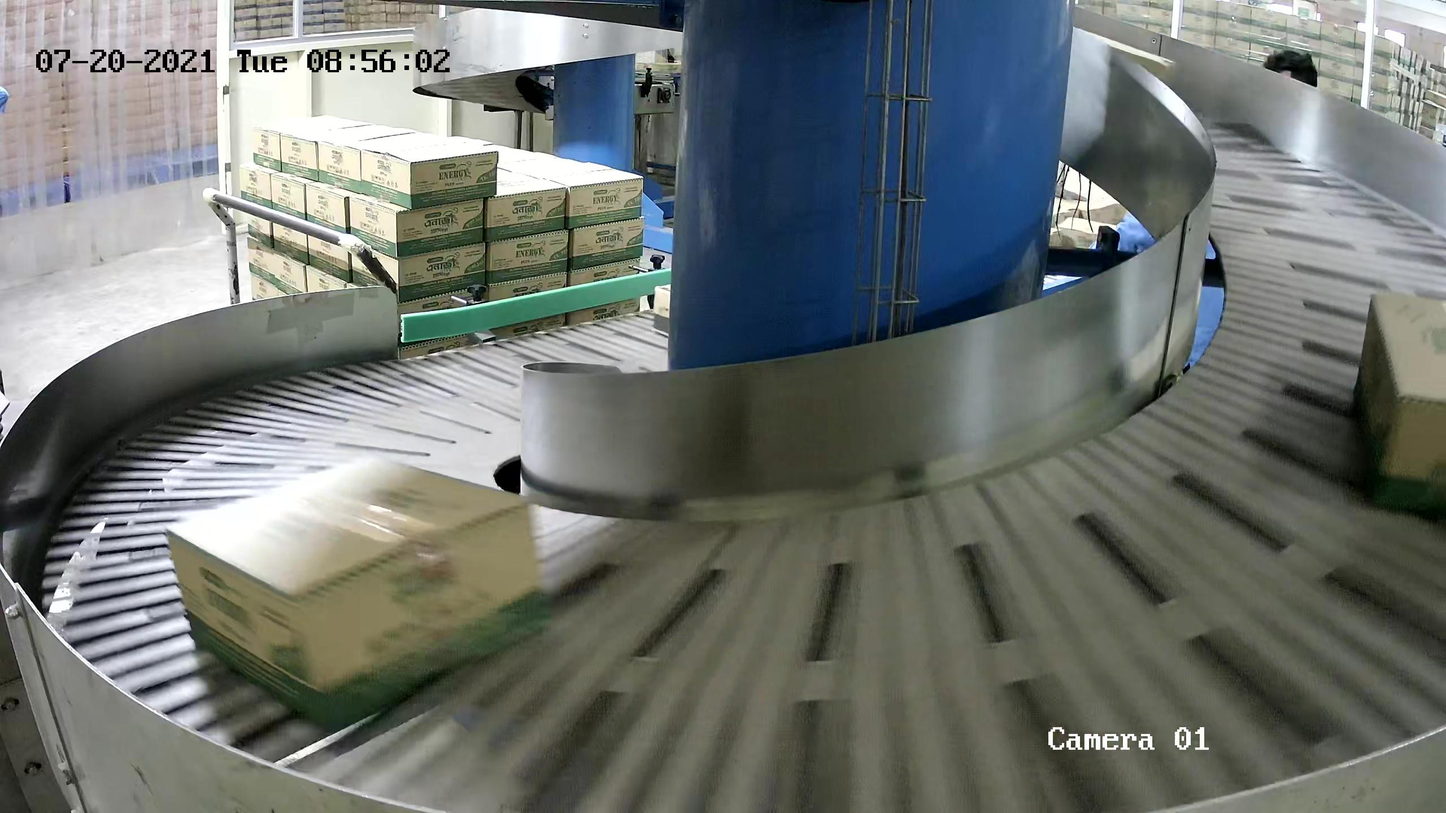Box: (163, 450, 553, 732), (1351, 291, 1446, 515)
